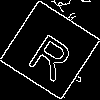R: (25, 25, 81, 83)
